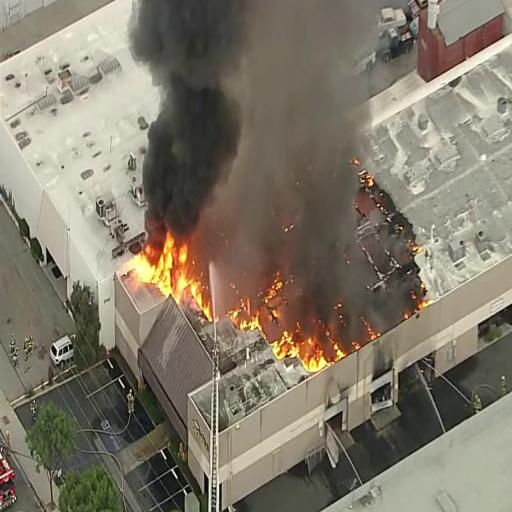fire: (132, 230, 183, 296), (271, 336, 328, 372)
smoke: (136, 5, 230, 221)
